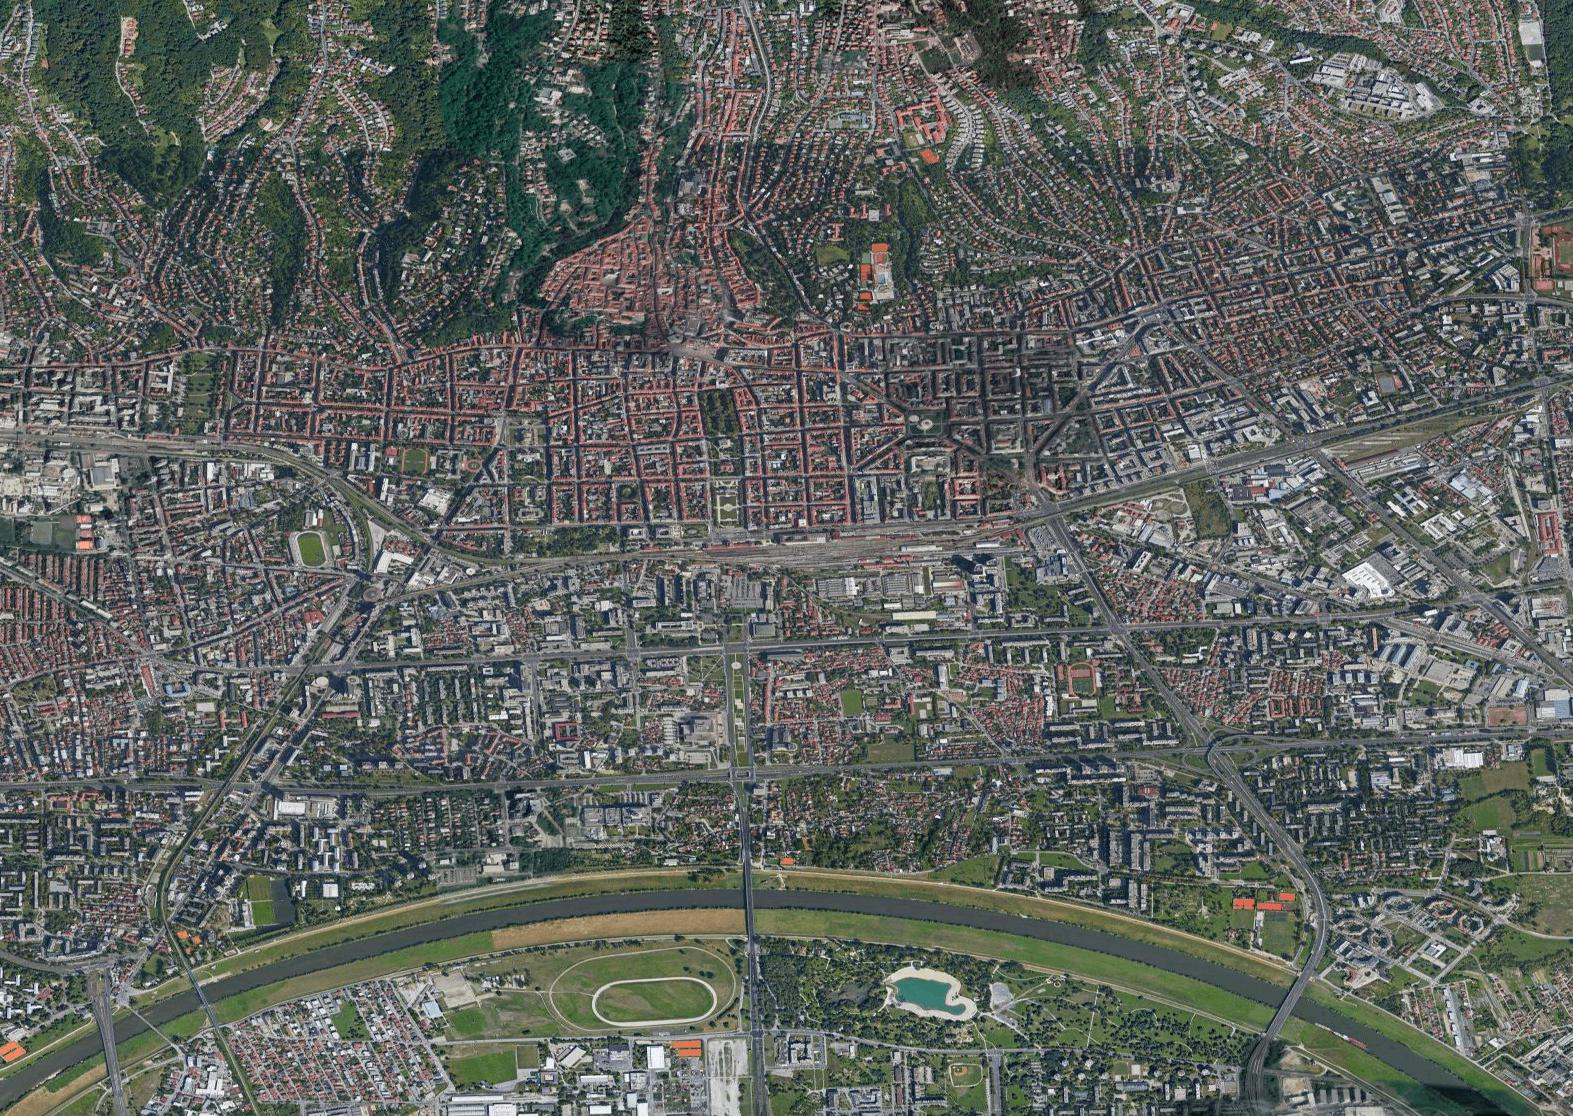bridge: (94, 1009, 118, 1057), (1277, 982, 1301, 1022), (739, 880, 757, 916), (190, 980, 206, 1015)
train_station: (700, 536, 769, 565)
